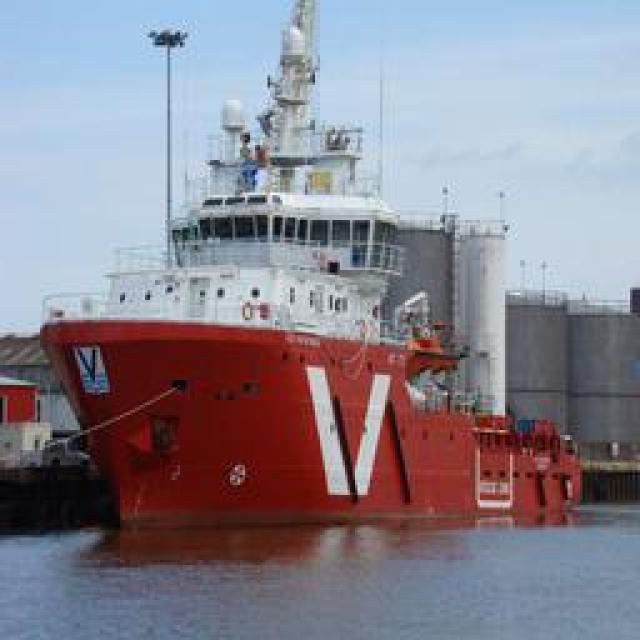Ship: (42, 10, 530, 525)
